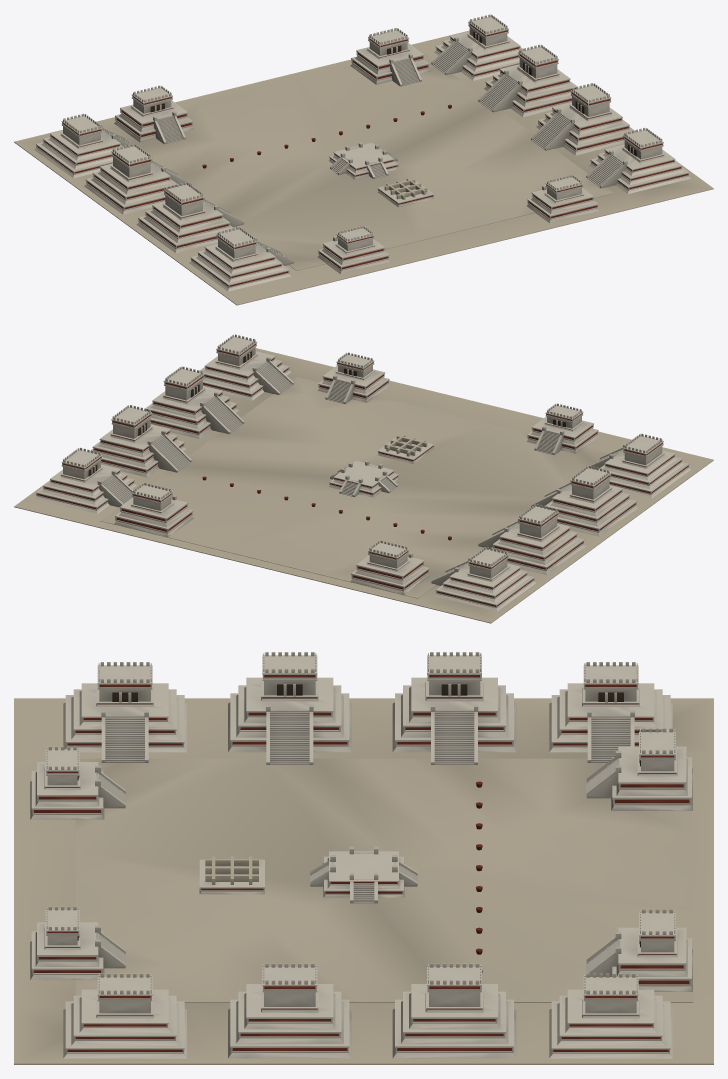
File: moon-plaza.glb
The picture shows the model from 3 angles, top to bottom: view 1: azimuth 30°, elevation 25°; view 2: azimuth 150°, elevation 25°; view 3: azimuth 270°, elevation 25°; orthographic projection. The views are drawn at different scales.
Visible parts, largest first — view 1: p0_plaza, p1_platforms, p2_braziers; view 2: p0_plaza, p1_platforms, p2_braziers; view 3: p0_plaza, p1_platforms, p2_braziers.
Boxes of the visible parts, x1,y1,x2,y2 form: p0_plaza: [14, 30, 713, 305]; p1_platforms: [34, 14, 690, 291]; p2_braziers: [114, 28, 599, 274]; p0_plaza: [14, 348, 713, 623]; p1_platforms: [34, 334, 690, 611]; p2_braziers: [114, 352, 599, 594]; p0_plaza: [14, 698, 713, 1064]; p1_platforms: [63, 652, 672, 1058]; p2_braziers: [30, 728, 692, 991].
Bounding box in the file's own units: 210 × 17.62 × 170.
